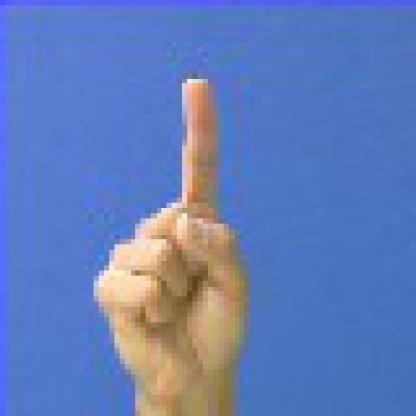one: (73, 67, 265, 410)
